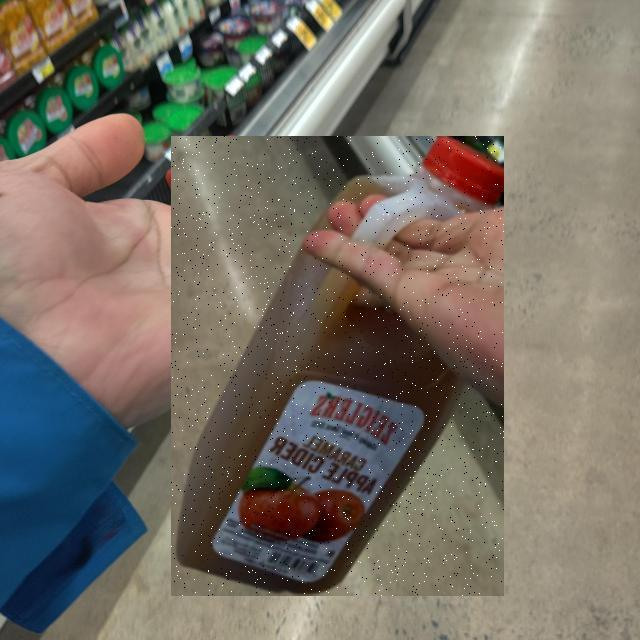Juice: (171, 136, 504, 596)
